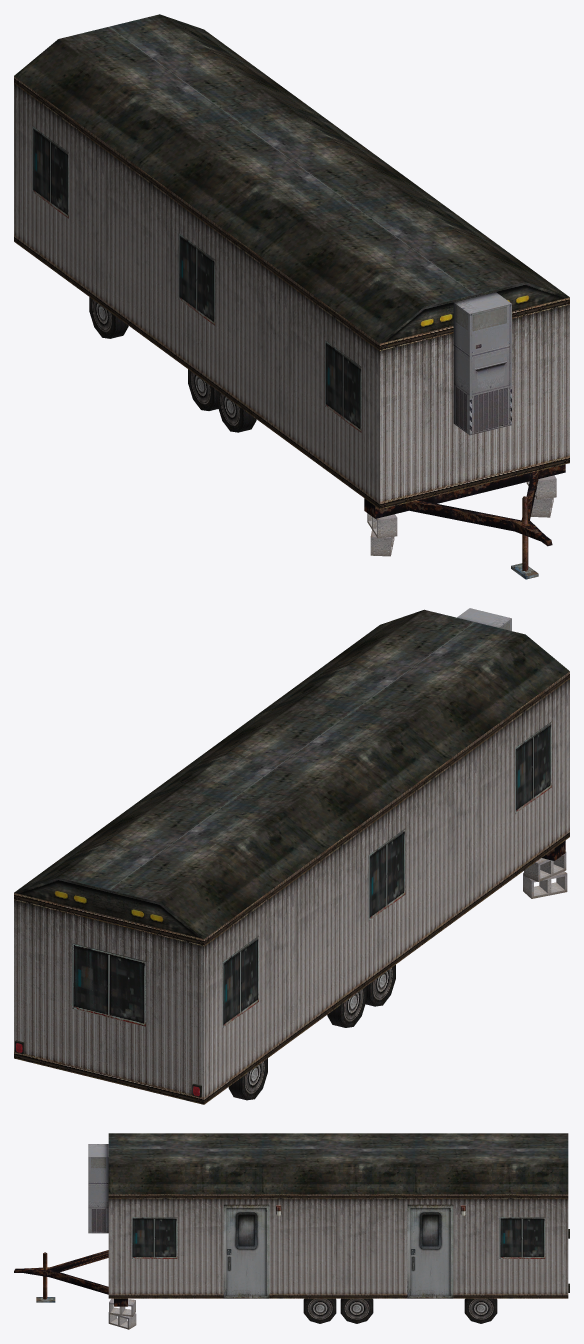
Rendered from construction_trailer.fbx.
The picture shows the model from 3 angles, top to bottom: view 1: azimuth 30°, elevation 25°; view 2: azimuth 150°, elevation 25°; view 3: azimuth 270°, elevation 25°; orthographic projection. The views are drawn at different scales.
Parts seen in each view (by area): view 1: mesh_0, mesh_1, mesh_2, mesh_4, mesh_3, mesh_16, mesh_18, mesh_17; view 2: mesh_1, mesh_0, mesh_17, mesh_18, mesh_23, mesh_16, mesh_22, mesh_2; view 3: mesh_1, mesh_0, mesh_2, mesh_4, mesh_13, mesh_14, mesh_15, mesh_21, mesh_6.
Boxes of the visible parts, x1,y1,x2,y2 form: mesh_0: [14, 76, 569, 509]; mesh_1: [14, 14, 569, 432]; mesh_2: [453, 292, 511, 435]; mesh_4: [401, 470, 552, 546]; mesh_3: [364, 464, 565, 518]; mesh_16: [217, 391, 256, 432]; mesh_18: [89, 297, 128, 338]; mesh_17: [188, 369, 218, 410]; mesh_1: [14, 609, 569, 1028]; mesh_0: [14, 671, 569, 1104]; mesh_17: [327, 986, 366, 1027]; mesh_18: [228, 1058, 267, 1100]; mesh_23: [523, 871, 567, 898]; mesh_16: [365, 965, 395, 1006]; mesh_22: [524, 852, 566, 881]; mesh_2: [457, 608, 511, 630]; mesh_1: [108, 1133, 568, 1298]; mesh_0: [108, 1194, 568, 1298]; mesh_2: [88, 1144, 108, 1233]; mesh_4: [14, 1250, 108, 1294]; mesh_13: [464, 1298, 497, 1323]; mesh_14: [340, 1298, 373, 1323]; mesh_15: [303, 1298, 336, 1323]; mesh_21: [108, 1312, 136, 1329]; mesh_6: [109, 1298, 135, 1316].
Bounding box in the file's own units: 313 × 364 × 1209.
2 materials, 2 textured.
